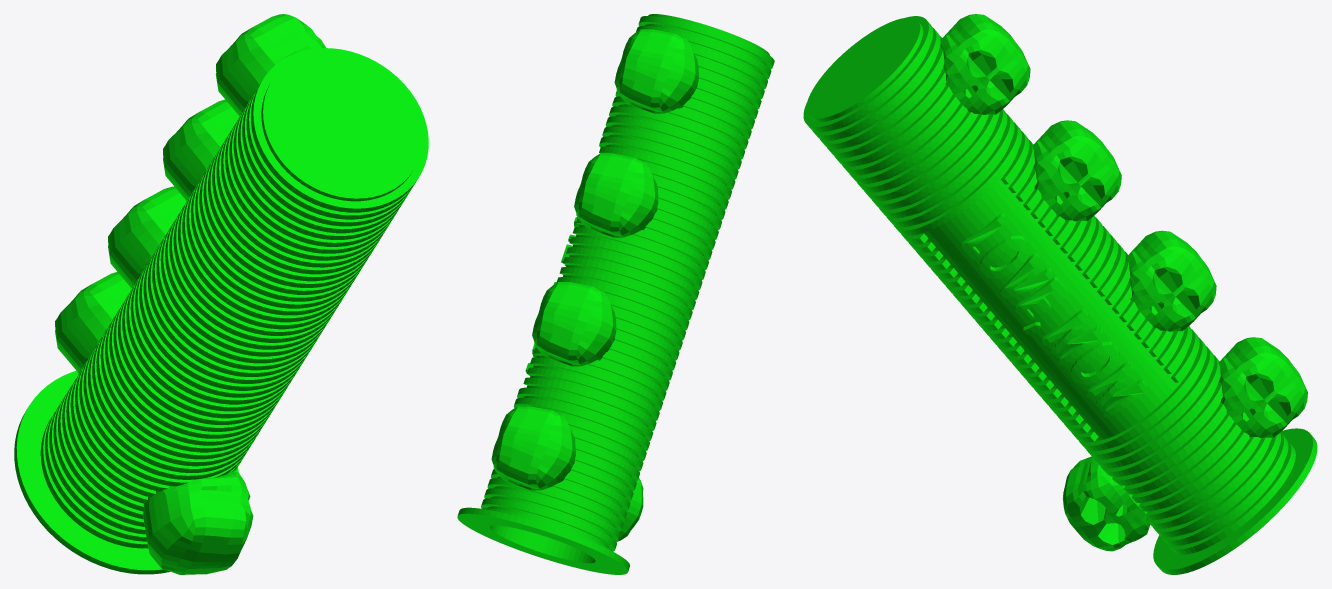
File: grips.glb
3 renders of one model, left to right at view 1: azimuth 30°, elevation 25°; view 2: azimuth 150°, elevation 25°; view 3: azimuth 270°, elevation 25°, orthographic. The views are drawn at different scales.
Visible parts, largest first — view 1: Bike_Handle_Bar_Blank, Cube.004, Cube.003, Cube.001, Cube, Cube.002; view 2: Bike_Handle_Bar_Blank, Cube.001, Cube.003, Cube, Cube.002, Cube.004; view 3: Bike_Handle_Bar_Blank, Curve.001, Cube.001, Cube.002, Cube.003, Cube, Cube.004.
Part boxes in pixels (bbox=[...]): Bike_Handle_Bar_Blank: bbox=[14, 48, 428, 574]; Cube.004: bbox=[143, 470, 253, 574]; Cube.003: bbox=[215, 14, 325, 116]; Cube.001: bbox=[108, 186, 186, 288]; Cube: bbox=[55, 272, 131, 372]; Cube.002: bbox=[163, 99, 239, 200]; Bike_Handle_Bar_Blank: bbox=[457, 14, 774, 574]; Cube.001: bbox=[532, 282, 616, 366]; Cube.003: bbox=[614, 29, 698, 114]; Cube: bbox=[491, 406, 575, 491]; Cube.002: bbox=[574, 153, 658, 238]; Cube.004: bbox=[616, 478, 643, 541]; Bike_Handle_Bar_Blank: bbox=[803, 16, 1317, 574]; Curve.001: bbox=[961, 213, 1147, 417]; Cube.001: bbox=[1125, 230, 1216, 331]; Cube.002: bbox=[1032, 120, 1121, 221]; Cube.003: bbox=[940, 14, 1030, 114]; Cube: bbox=[1218, 337, 1307, 438]; Cube.004: bbox=[1062, 456, 1150, 551].
Size of the model in its own units: 41.98 by 124 by 107.
